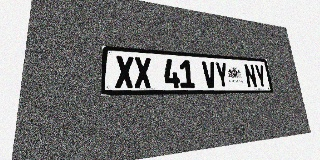1: (178, 60, 195, 88)
4: (163, 59, 180, 88)
N: (244, 64, 258, 88)
V: (202, 61, 217, 88)
X: (115, 56, 134, 88), (134, 57, 152, 88)
Y: (214, 62, 230, 88), (254, 64, 268, 88)
